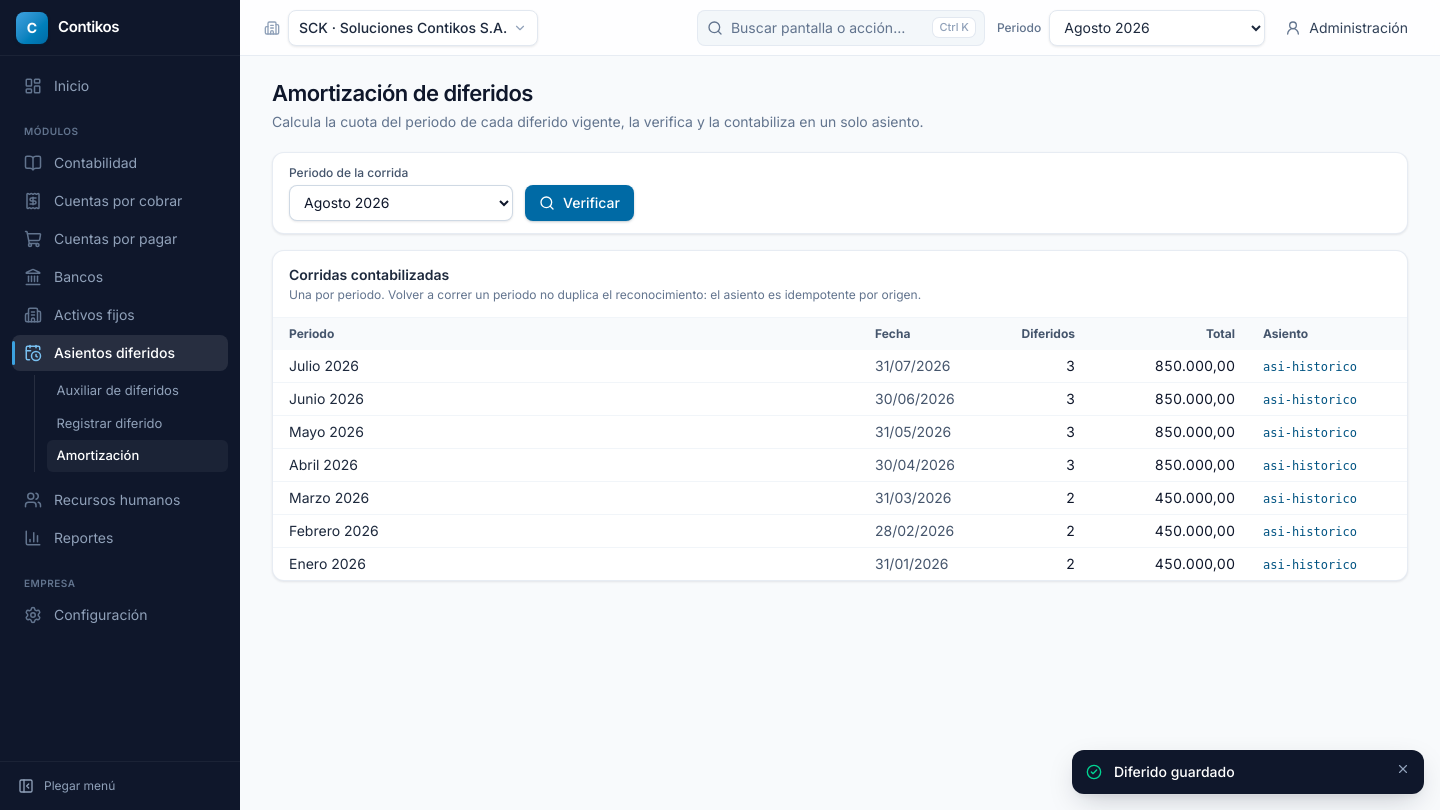
Test: Amortización de diferidos › contabiliza la corrida, baja el saldo y rechaza la segunda
Expected: the dropdown labelled "Periodo de la corrida" shows "Agosto 2026", [289, 184, 513, 220]
What coordinates should you click on to do the following:
click the button "Verificar"
I would click on:
 (579, 202)
Its box is [525, 184, 634, 220].
(page scrolled)
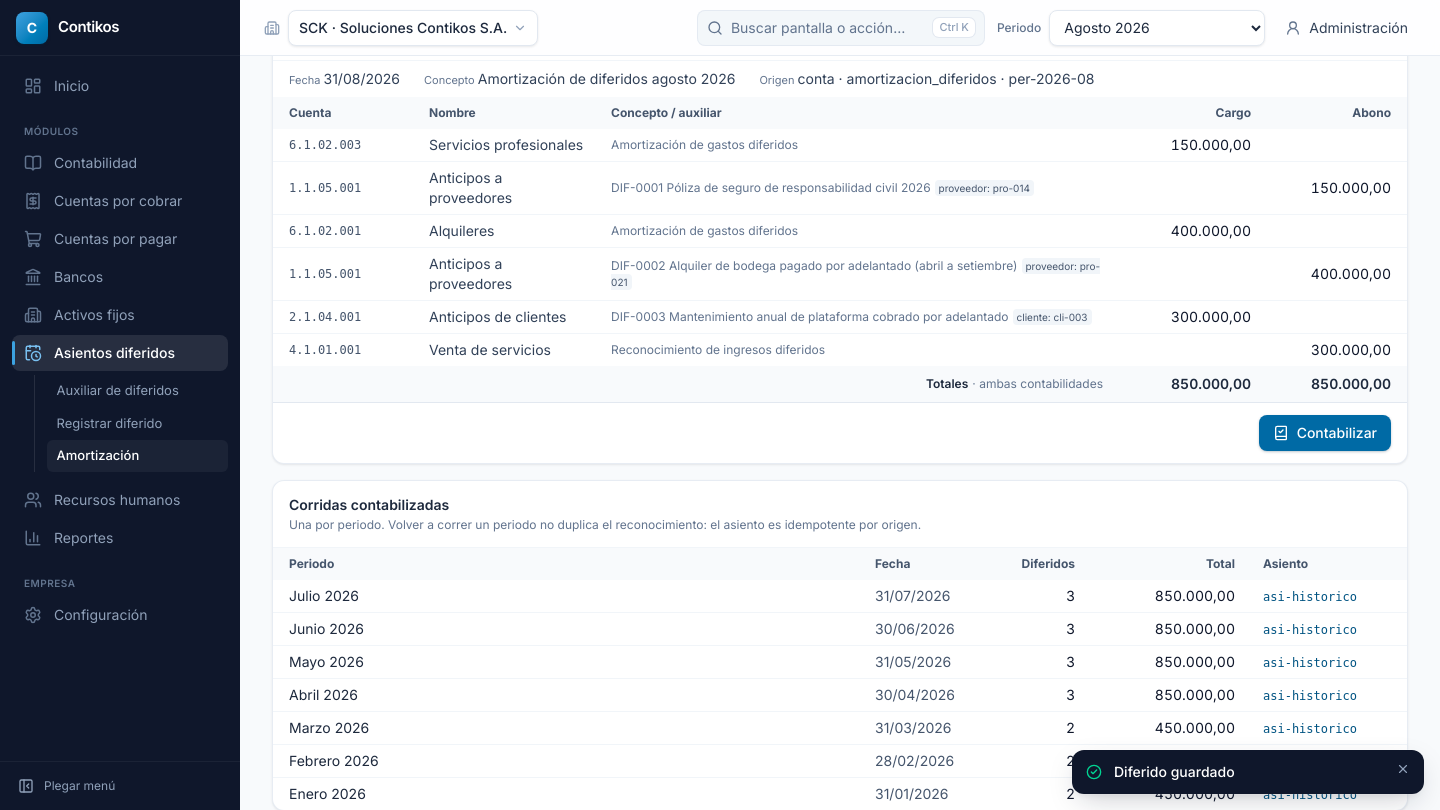
What coordinates should you click on to do the following:
click the button "Contabilizar"
I would click on:
 (1325, 433)
Its box is [1259, 415, 1391, 451].
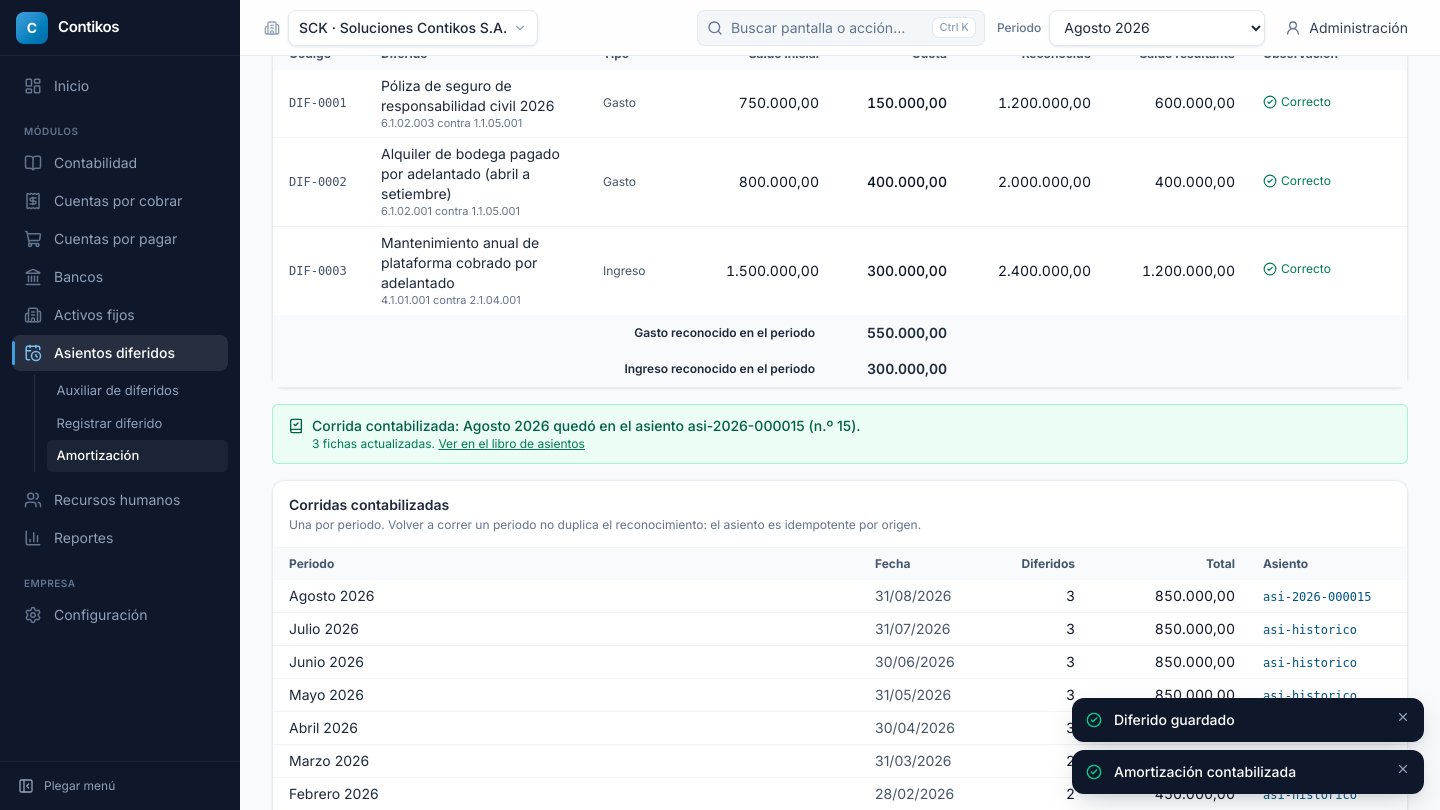
Result: the message shows "Corrida contabilizada" at [312, 417, 459, 434]
Result: the message shows "3 fichas actualizadas" at [272, 404, 1408, 464]
Result: the text "Agosto 2026" is shown at [273, 580, 863, 612]
